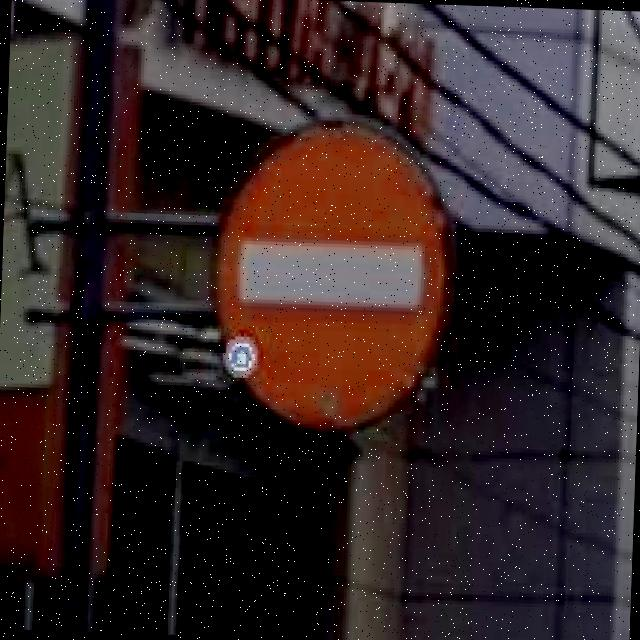Zakaz wjazdu: (214, 124, 448, 432)
